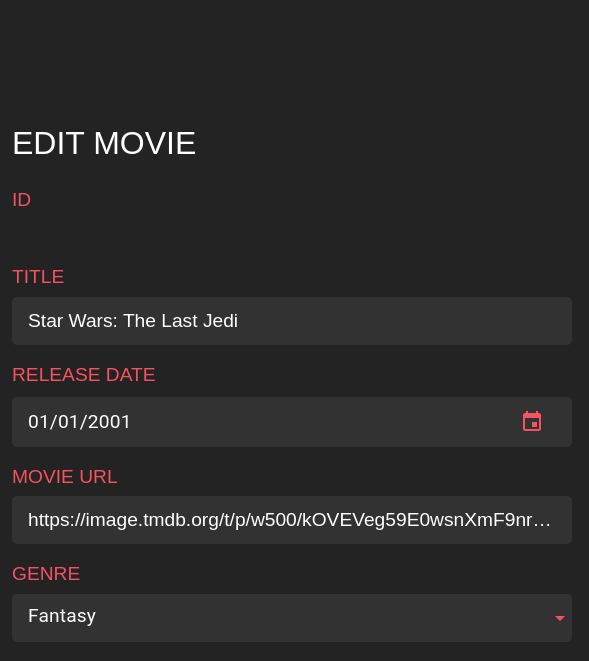
Test: MovieDetailsForm › should reset form when RESET button is clicked
(page scrolled)
Replace the text in the field named "Title" with "New Title" at (292, 321), box [12,297,572,345]
(page scrolled)
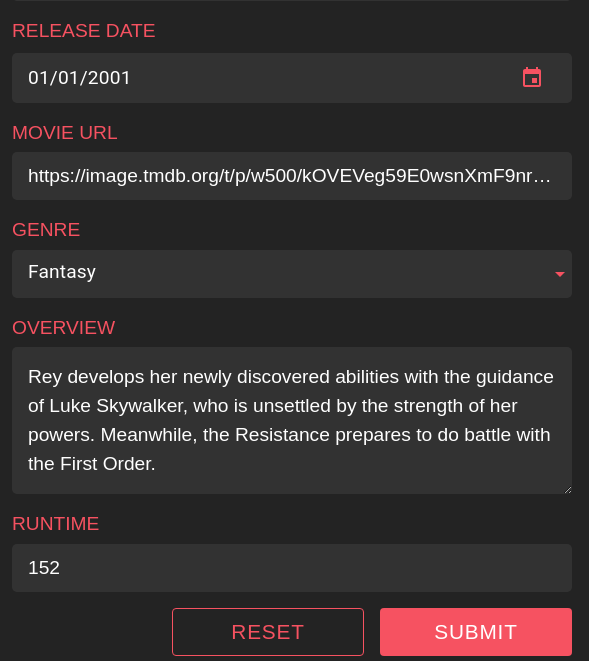
Click the button "RESET" at (268, 632), box [172,608,364,656]
(page scrolled)
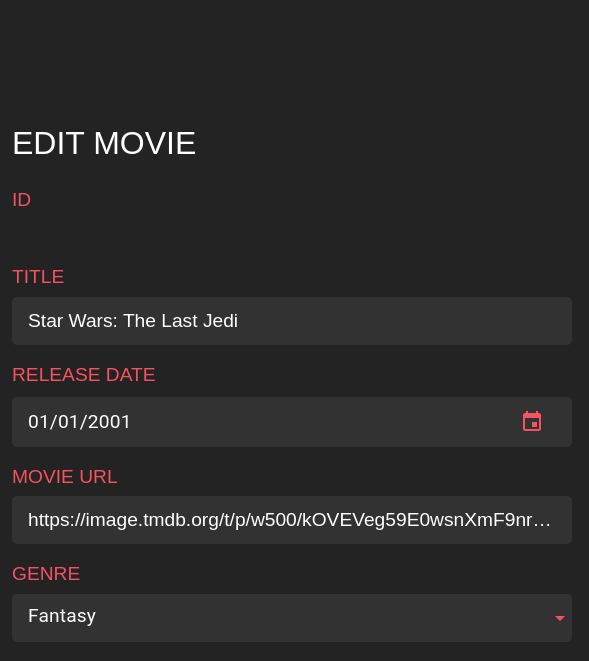
Expected: the field named "Title" holds "Star Wars: The Last Jedi", [12,297,572,345]
